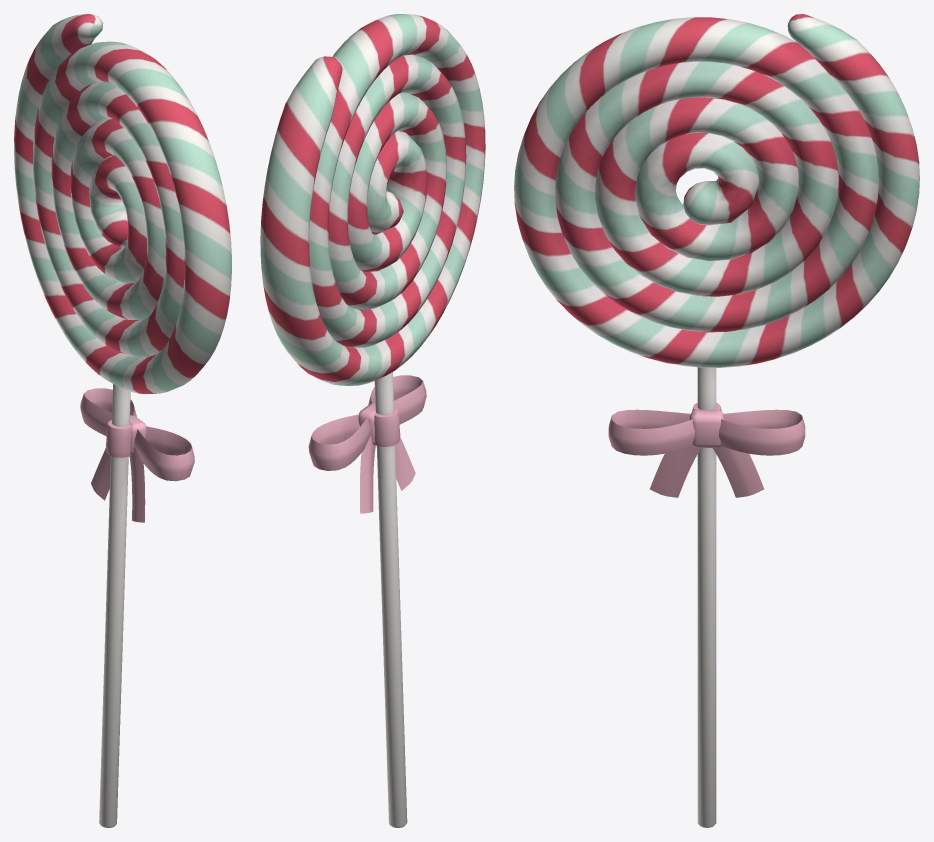
Rendered from piruleta.glb.
The picture shows the model from 3 angles, left to right: view 1: azimuth 30°, elevation 25°; view 2: azimuth 150°, elevation 25°; view 3: azimuth 270°, elevation 25°; orthographic projection. The views are drawn at different scales.
Parts seen in each view (by area): view 1: lollipop_body; view 2: lollipop_body; view 3: lollipop_body.
Boxes of the visible parts, <box> form: lollipop_body: <box>14,14,231,827</box>; lollipop_body: <box>260,14,485,827</box>; lollipop_body: <box>514,14,919,827</box>.
Size of the model in its own units: 0.0181 by 0.227 by 0.1016.
1 material, 1 textured.
